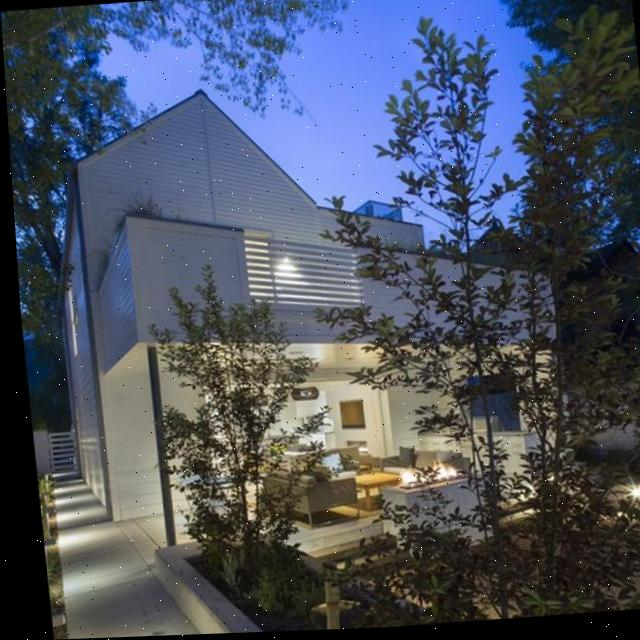building: (31, 59, 598, 554)
